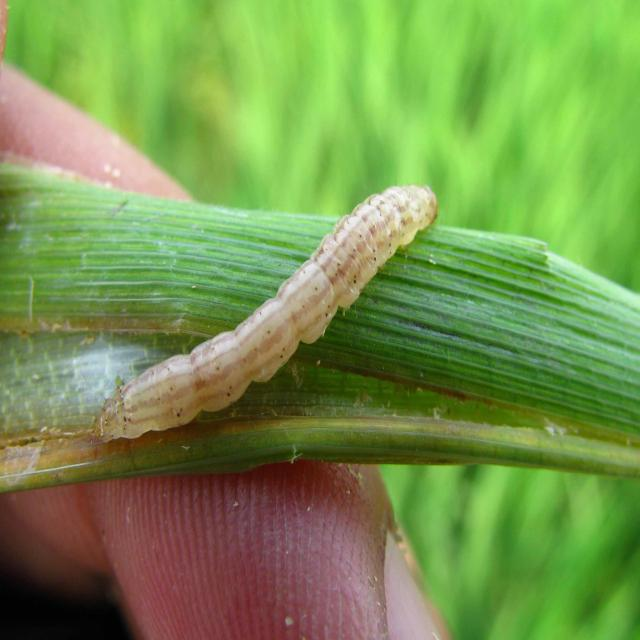yellow-stem-borer-larva: (83, 165, 459, 458)
